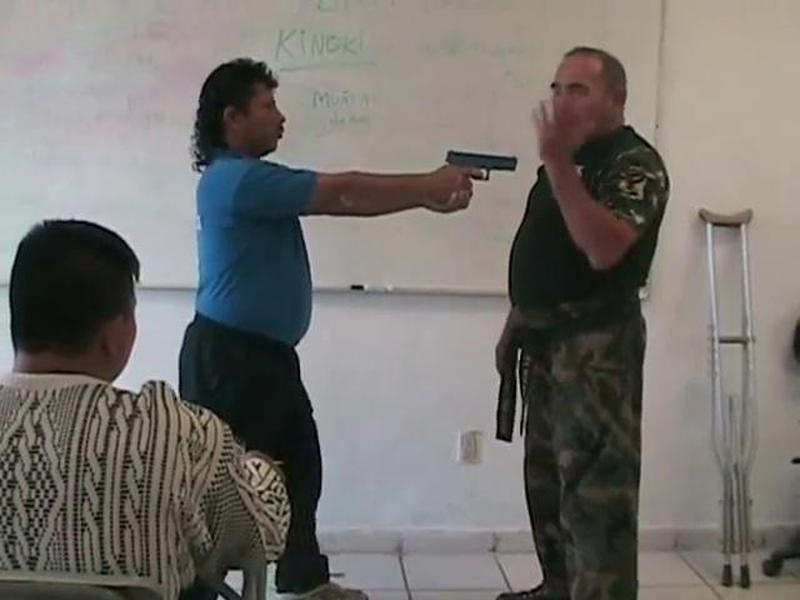Pistola: (439, 142, 520, 194)
